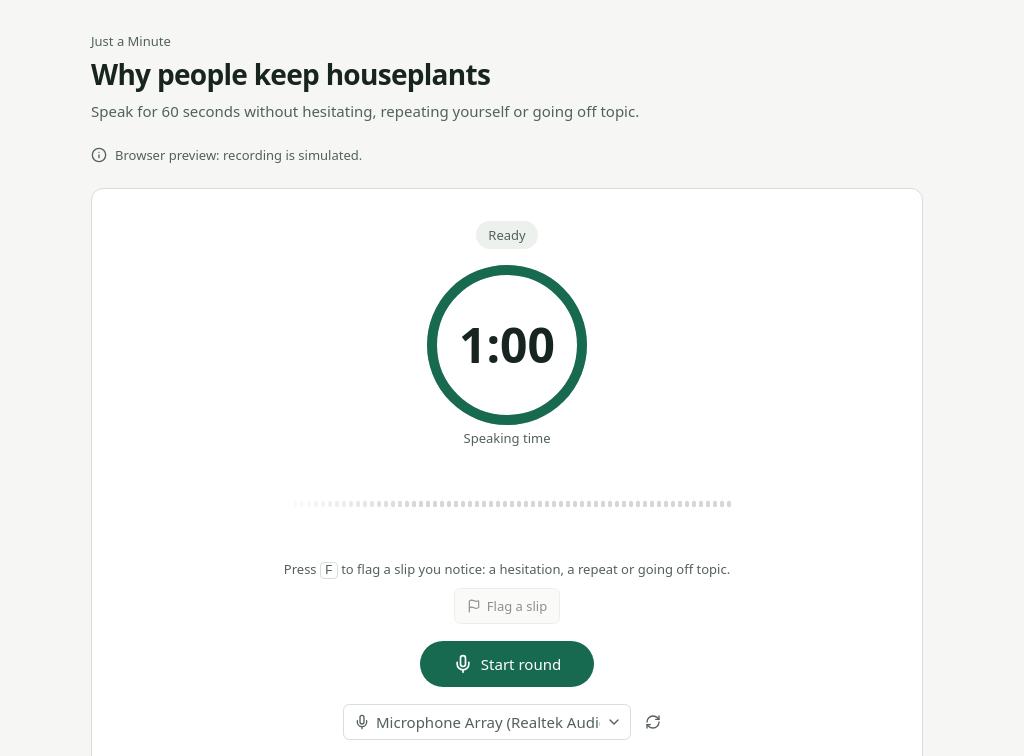
Test case: the drill clock (10.1) › stops and saves at the limit once, writes the marks and shows the result
Later steps or results of the test are not shown.
Click the button "Start round" at (507, 664), box [419,640,595,688]
Wait 5000 ms
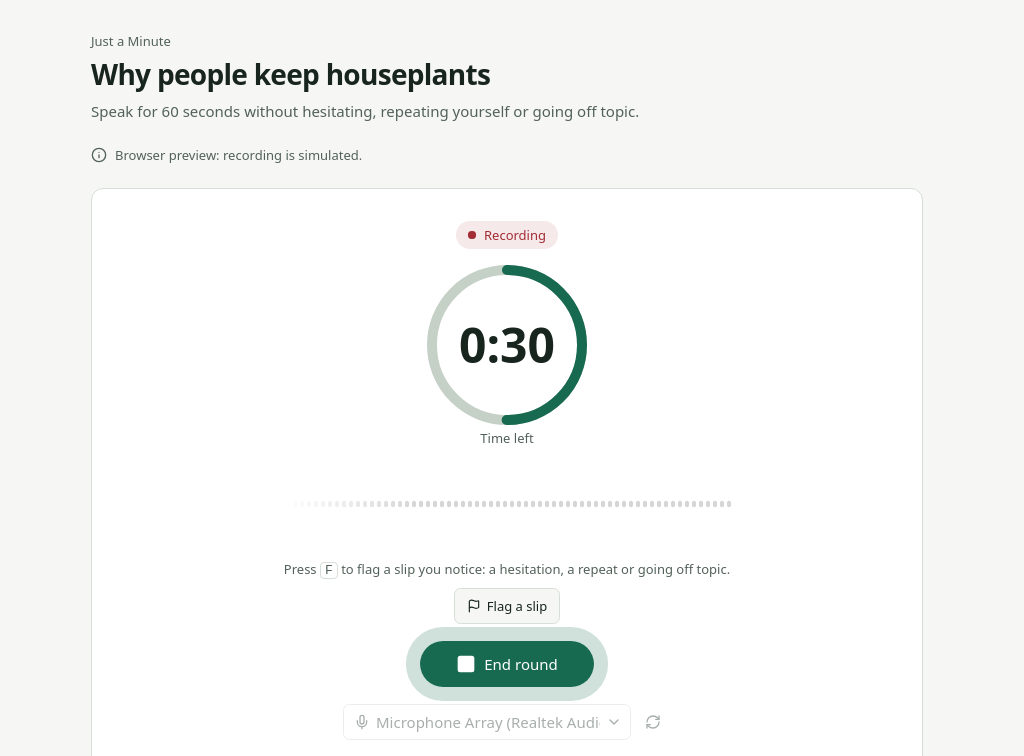
Press f
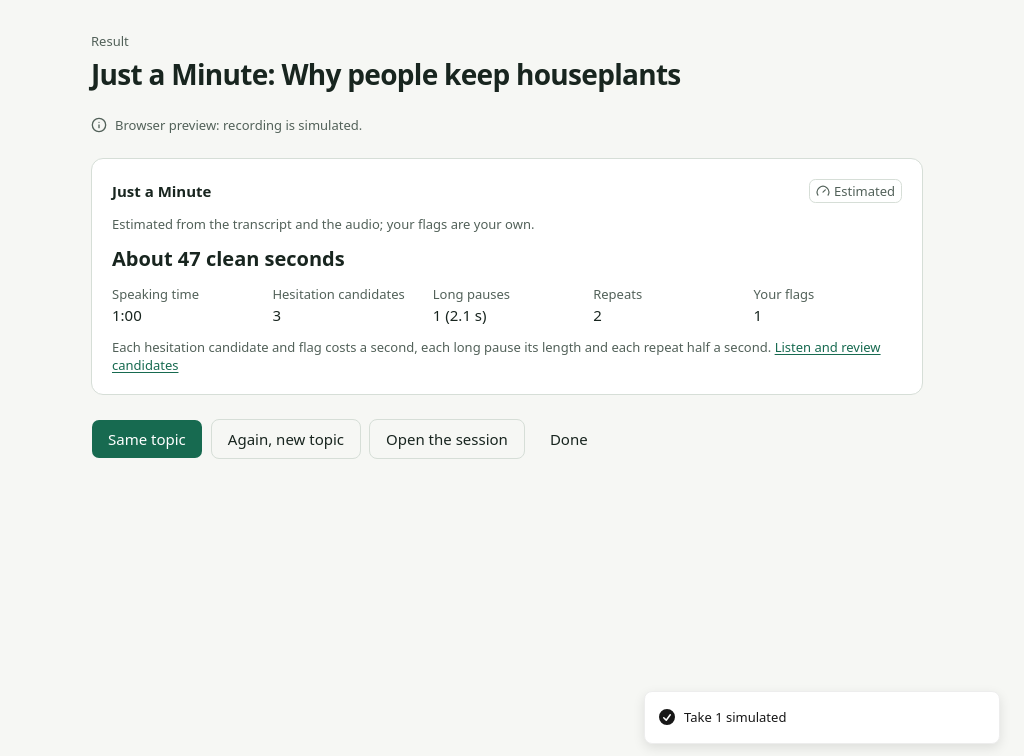
Expected: the text "About 47 clean seconds" is shown, [112,245,345,272]
Expected: the button "Same topic" is shown, [91,419,203,459]
